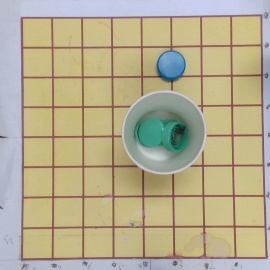blue: (157, 50, 186, 80)
cup_green: (120, 90, 208, 176)
